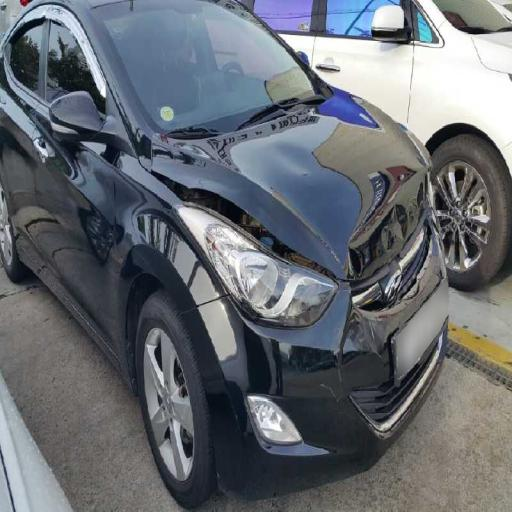dent: (154, 116, 367, 318)
